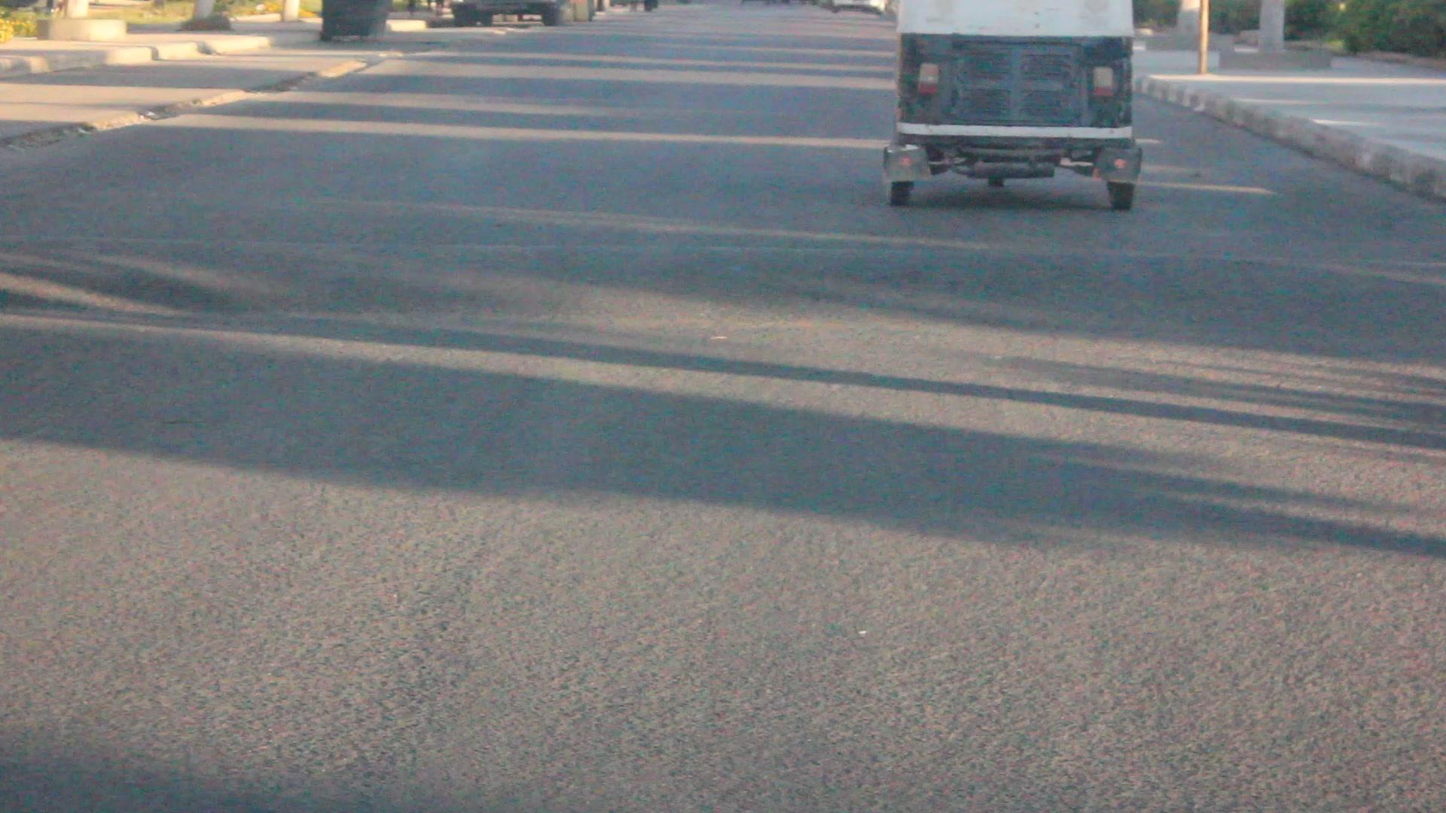Bump: (2, 228, 1446, 344)
